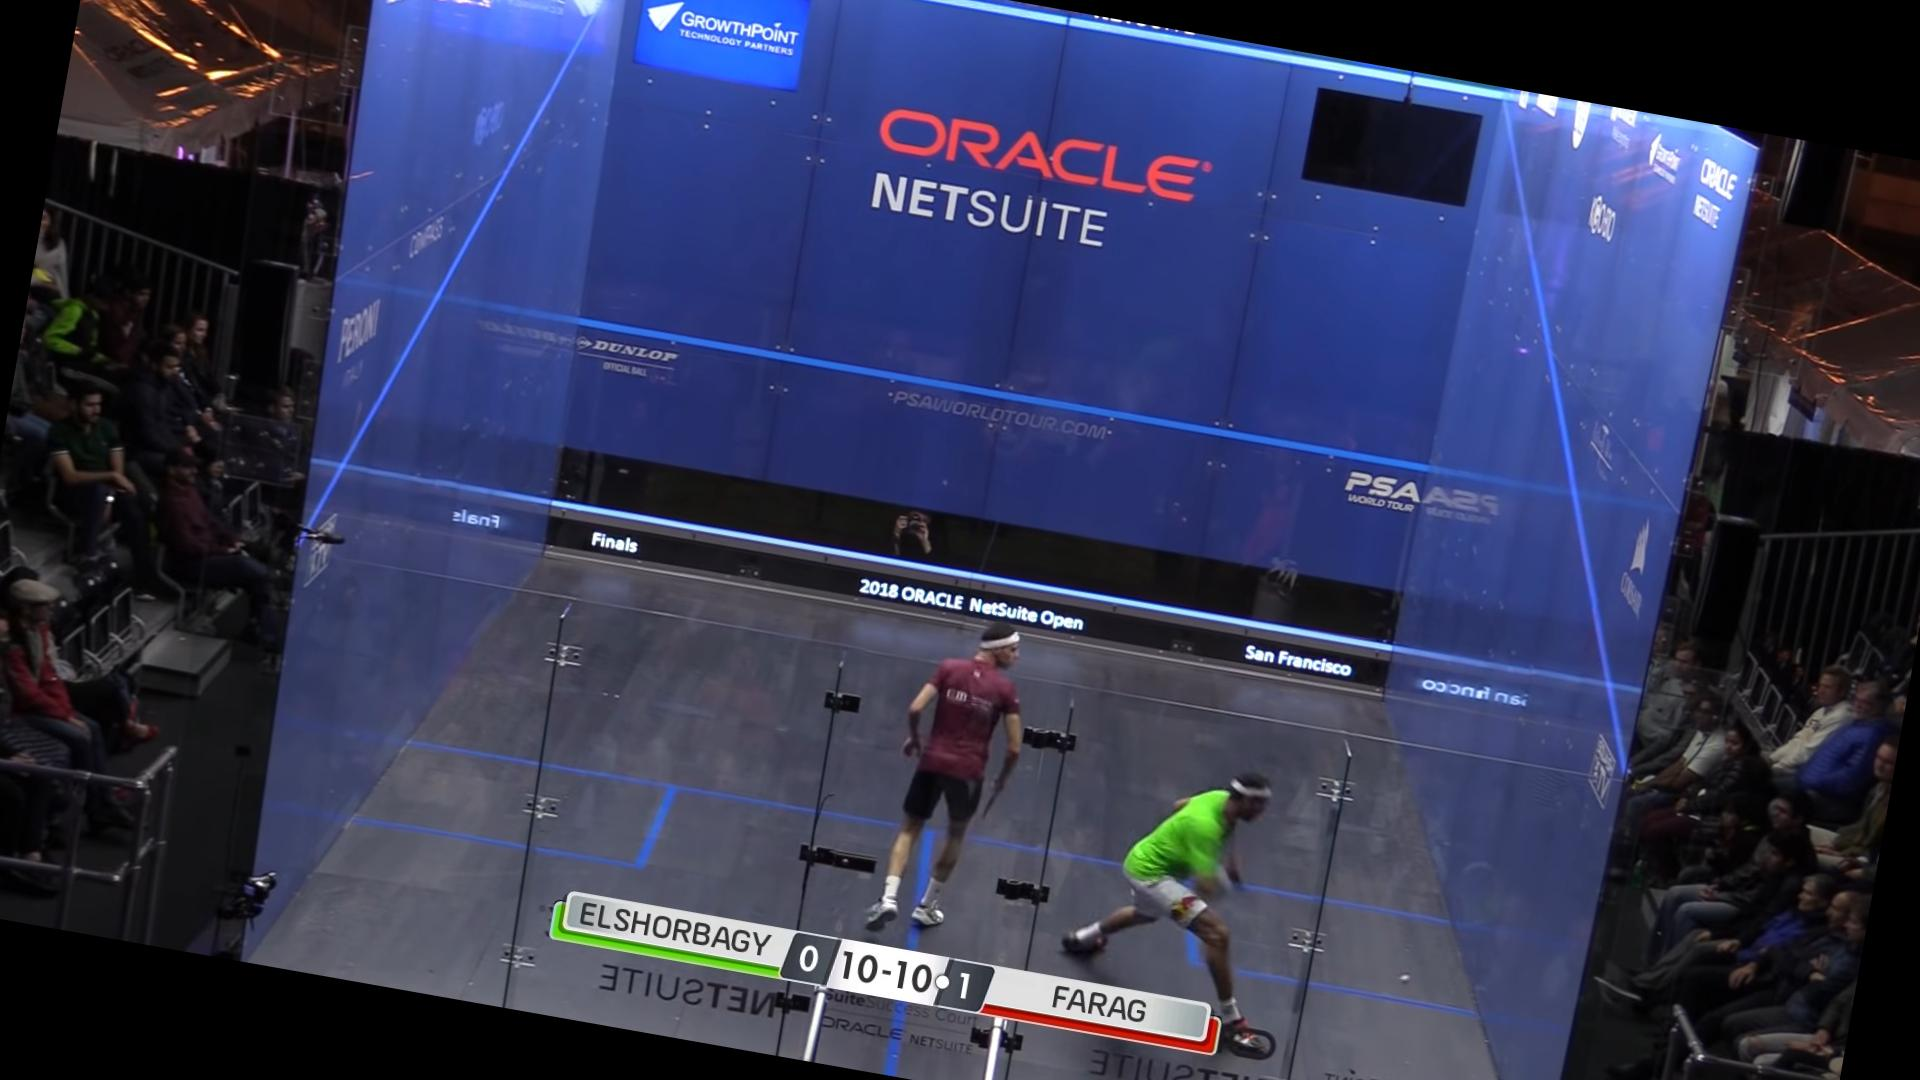Squash-Ball: (1390, 956, 1422, 993)
